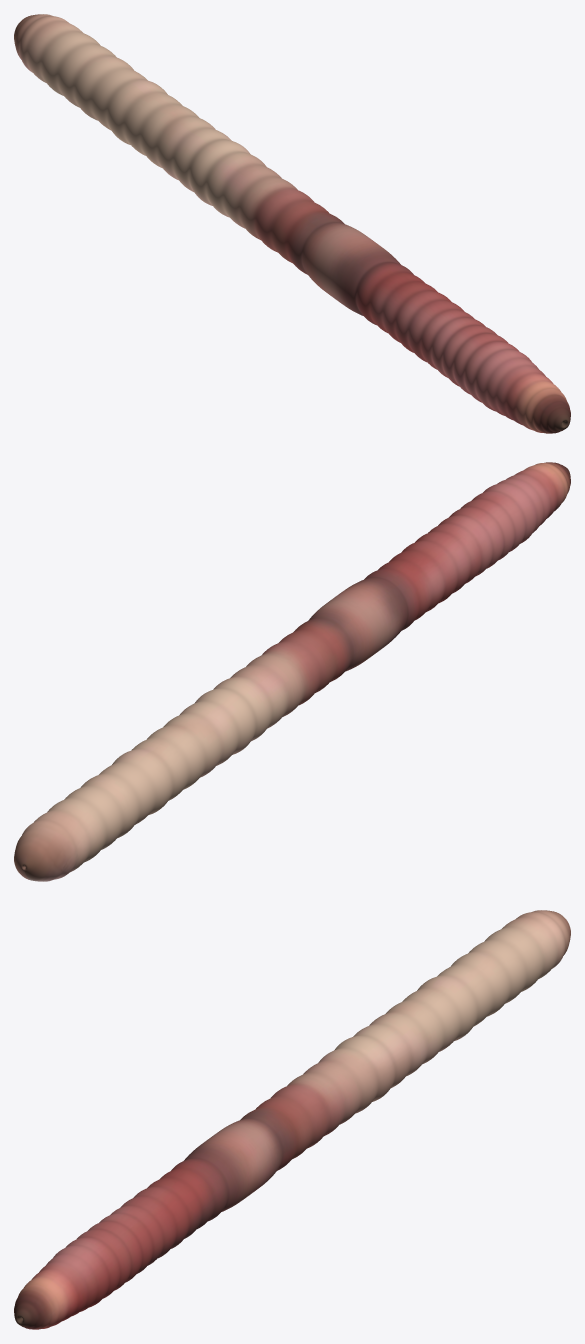
File: worm.fbx
The picture shows the model from 3 angles, top to bottom: view 1: azimuth 30°, elevation 25°; view 2: azimuth 150°, elevation 25°; view 3: azimuth 330°, elevation 25°; orthographic projection.
Parts seen in each view (by area): view 1: worm; view 2: worm; view 3: worm.
Boxes of the visible parts, x1=… form: worm: x1=14, y1=14, x2=570, y2=433; worm: x1=14, y1=462, x2=570, y2=881; worm: x1=14, y1=910, x2=570, y2=1329.
Size of the model in its own units: 0.0145 by 0.0145 by 0.2246.
1 material, 1 textured.
